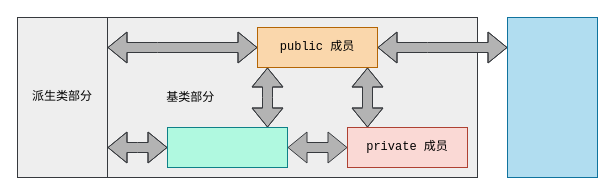
Some shapes in this 615 by 195 pixel diagram are drawn without their labels. Each missing label, with the box of its shape:
protected 成员: (166, 126, 288, 168)
外界: (506, 16, 598, 178)
